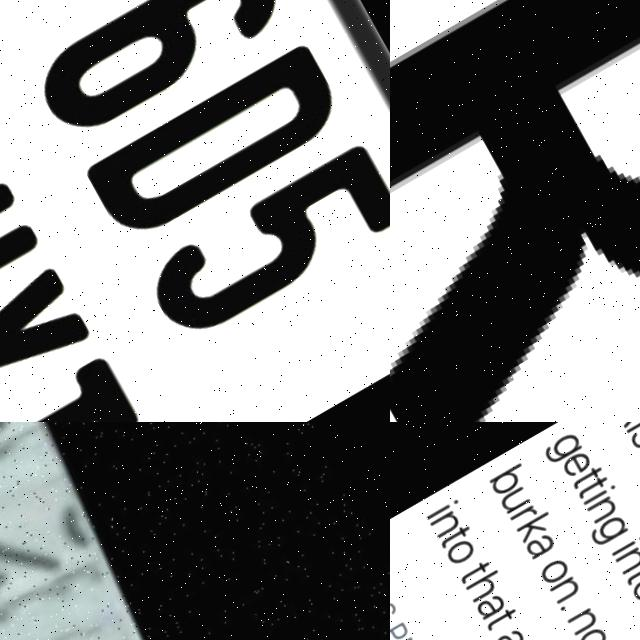2: (390, 597, 400, 623)
4: (0, 487, 78, 614)
5: (137, 138, 390, 347)
6: (24, 0, 296, 147)
A: (523, 529, 558, 561), (476, 590, 509, 620), (494, 625, 529, 640)
B: (488, 461, 532, 498)
D: (76, 42, 353, 257)
E: (560, 448, 594, 478)
G: (541, 428, 585, 467), (587, 511, 632, 549)
H: (464, 567, 507, 604)
I: (583, 481, 619, 505), (428, 498, 461, 519), (611, 534, 640, 556)
K: (515, 509, 558, 544)
L: (625, 422, 640, 433)
N: (549, 575, 583, 606), (567, 606, 601, 636), (587, 494, 620, 524), (429, 509, 462, 538), (615, 544, 640, 573)
O: (538, 555, 574, 587), (444, 535, 480, 567), (576, 622, 612, 640), (629, 571, 640, 604)
P: (390, 618, 411, 640)
R: (390, 0, 640, 422), (510, 503, 538, 525)
S: (628, 422, 640, 449)
T: (0, 349, 146, 422), (570, 462, 606, 489), (576, 472, 611, 499), (440, 521, 475, 548), (458, 557, 493, 584), (485, 606, 519, 631), (625, 558, 640, 585)
U: (499, 484, 533, 514)
X: (0, 261, 97, 422)
